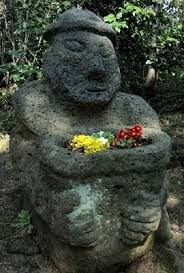Stone Statue: (9, 6, 175, 273)
